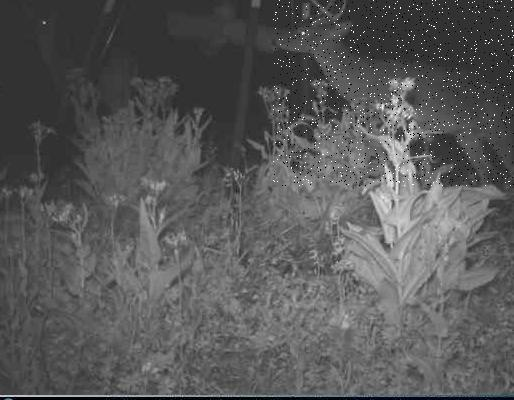Deer: (273, 0, 514, 186)
